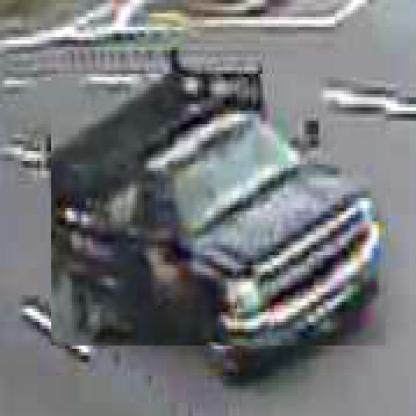truck: (52, 75, 389, 350)
